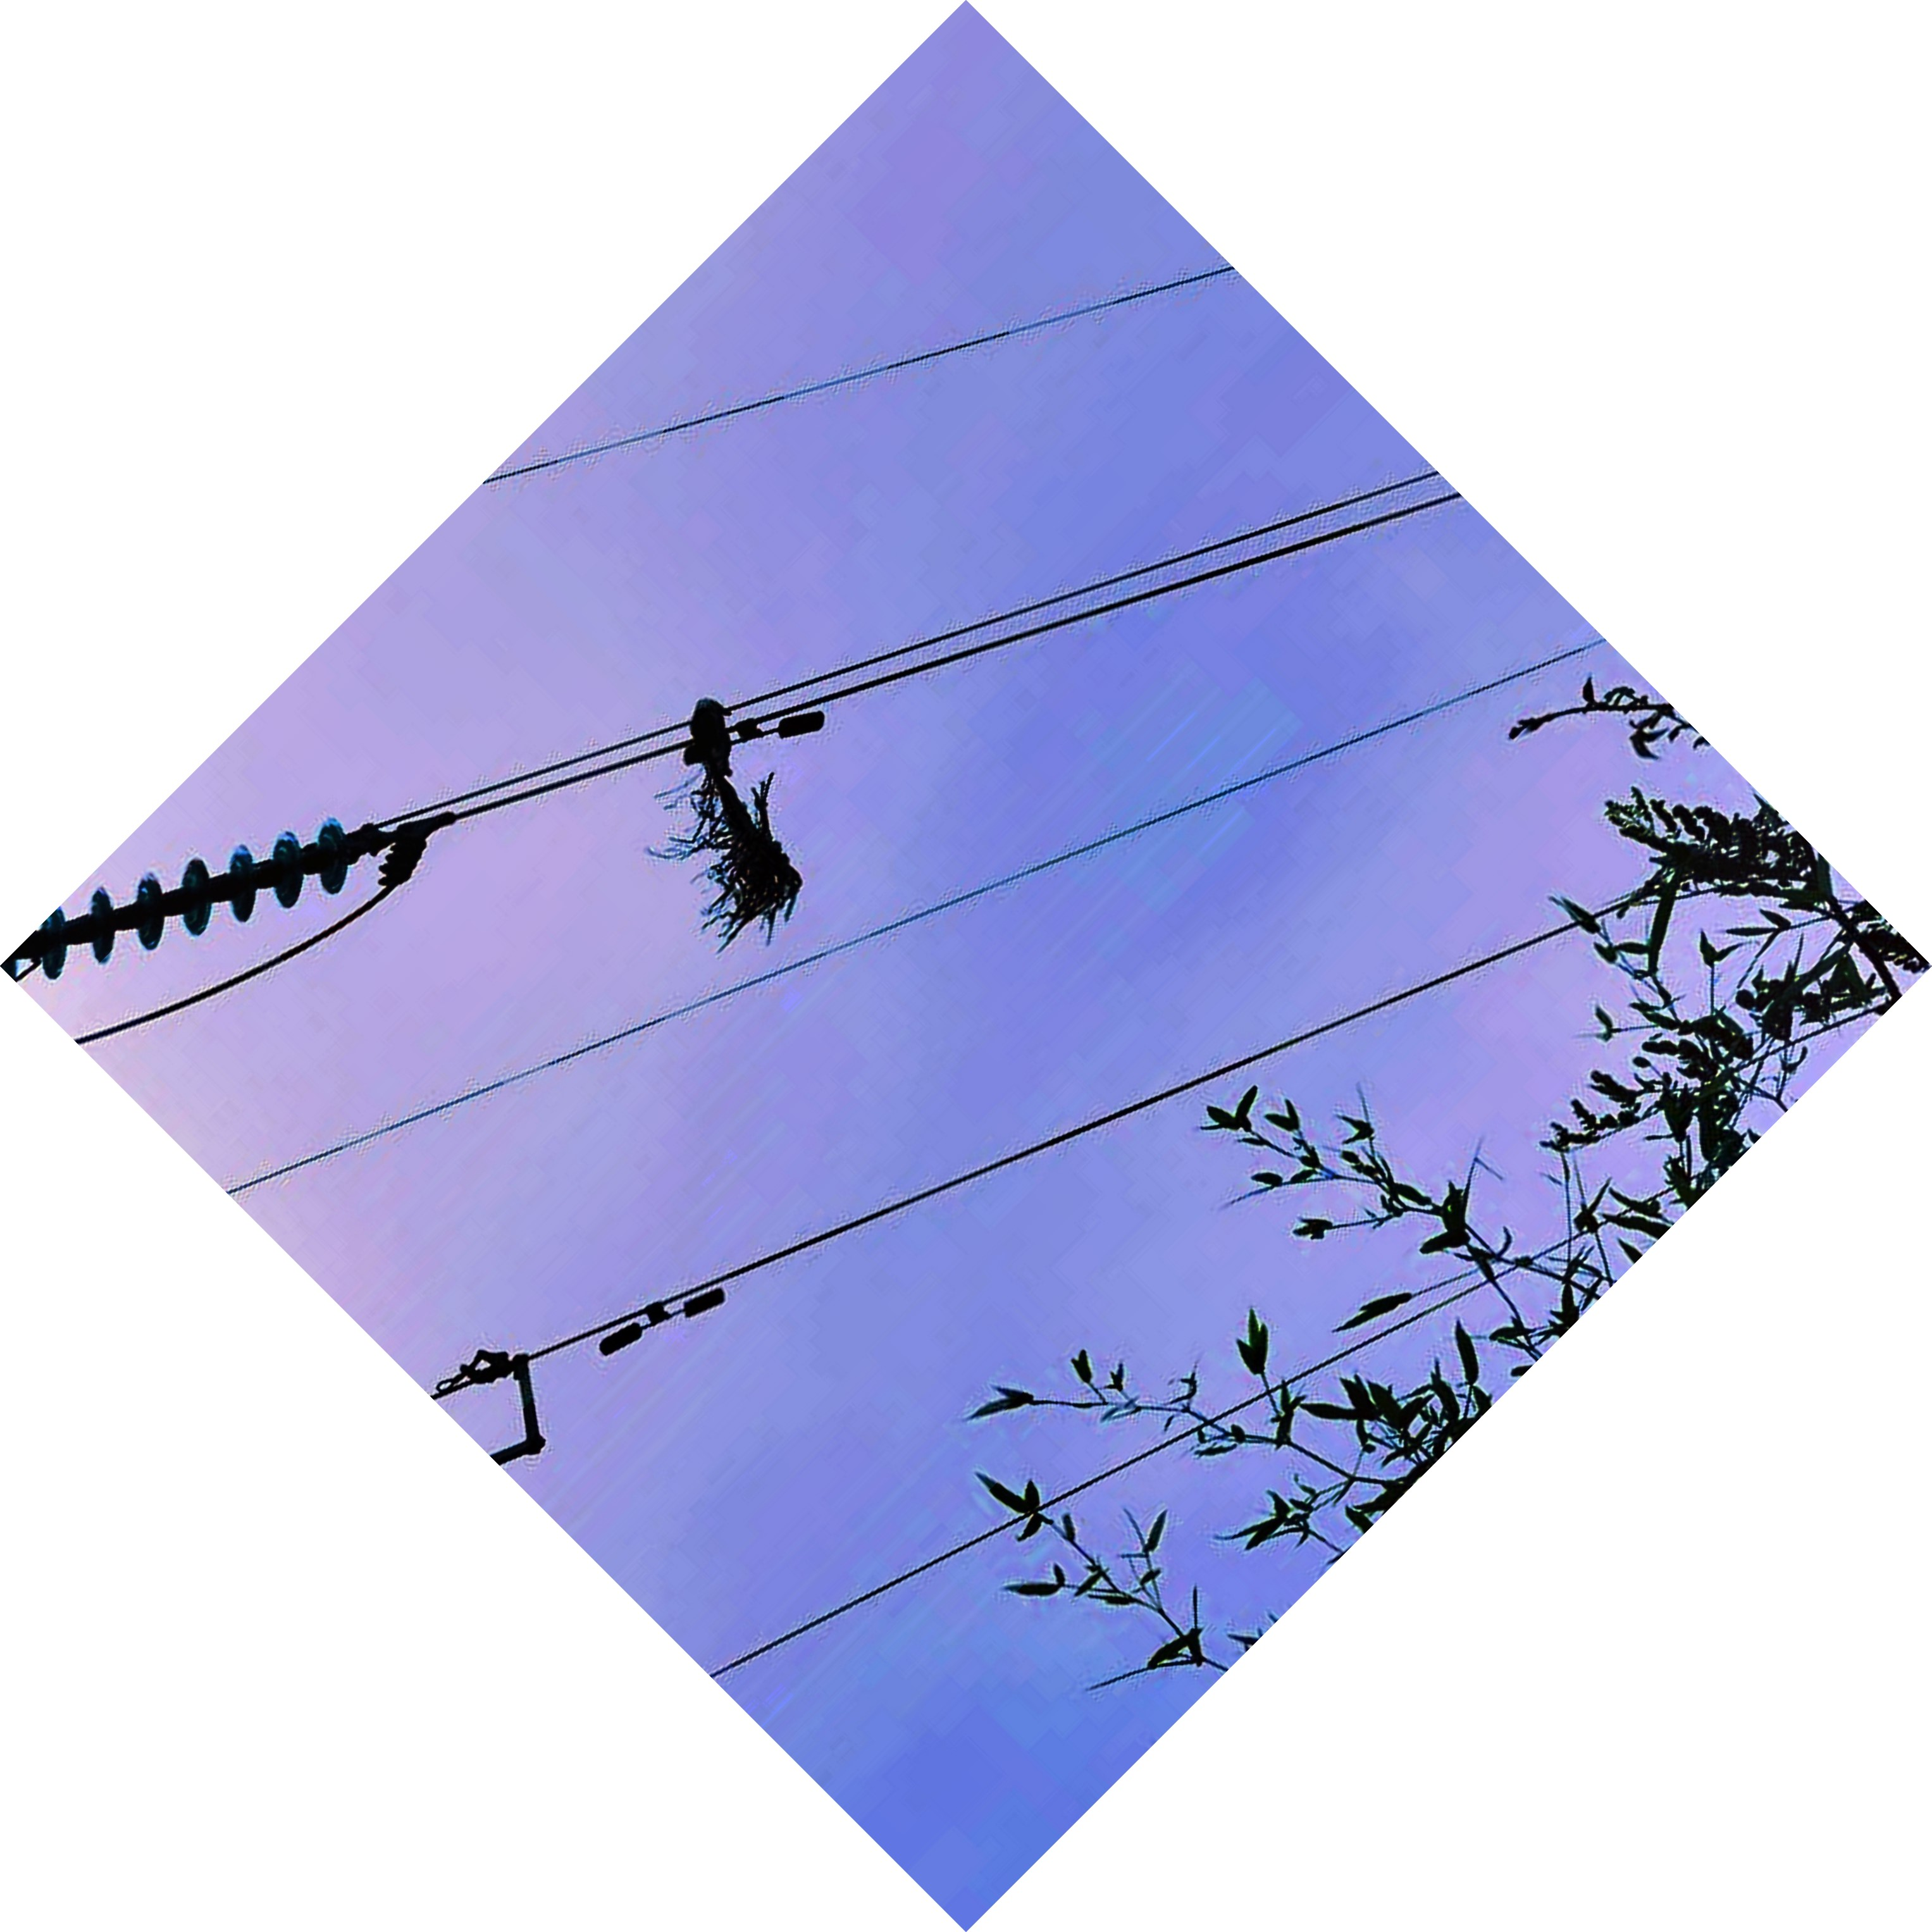wire foreign body: (640, 685, 809, 941)
